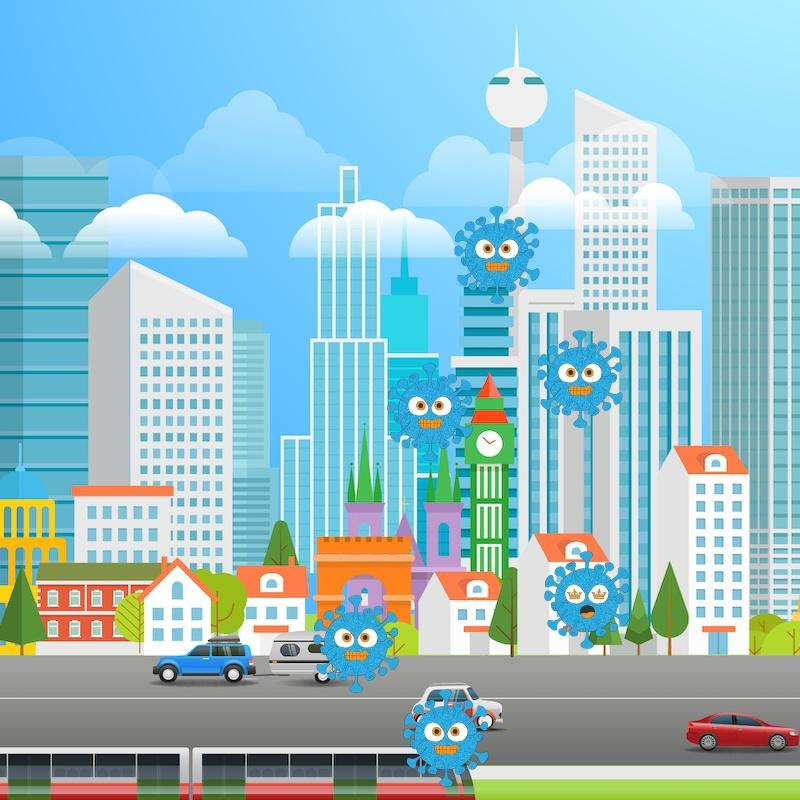corona1: (392, 693, 503, 785), (446, 203, 546, 304), (304, 591, 402, 694), (537, 330, 627, 434), (384, 366, 478, 458)
corona4: (542, 558, 636, 648)
